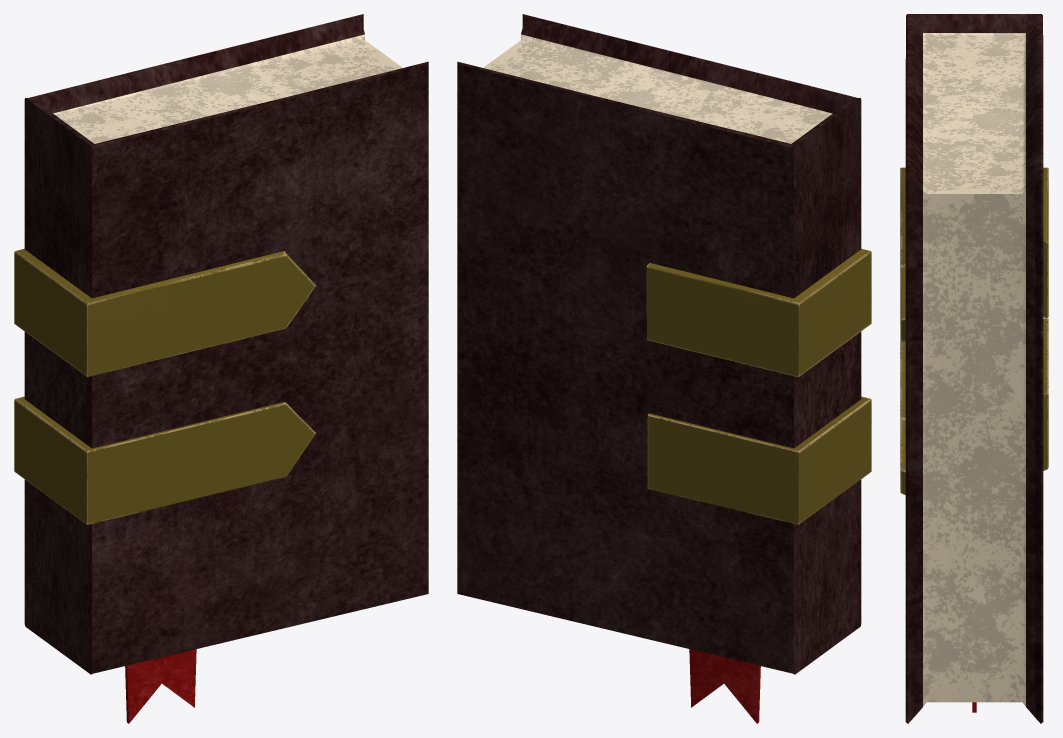
The model's file is ITM_UTILITY_BOOK.fbx.
The picture shows the model from 3 angles, left to right: view 1: azimuth 30°, elevation 25°; view 2: azimuth 150°, elevation 25°; view 3: azimuth 270°, elevation 25°; orthographic projection. The views are drawn at different scales.
Visible parts, largest first — view 1: itm_utiliy_book; view 2: itm_utiliy_book; view 3: itm_utiliy_book.
Part boxes in pixels (x1,y1,x2,y2): itm_utiliy_book: [14, 14, 428, 723]; itm_utiliy_book: [457, 14, 871, 723]; itm_utiliy_book: [900, 14, 1048, 723].
Bounding box in the file's own units: 50.11 × 85.94 × 18.26.
